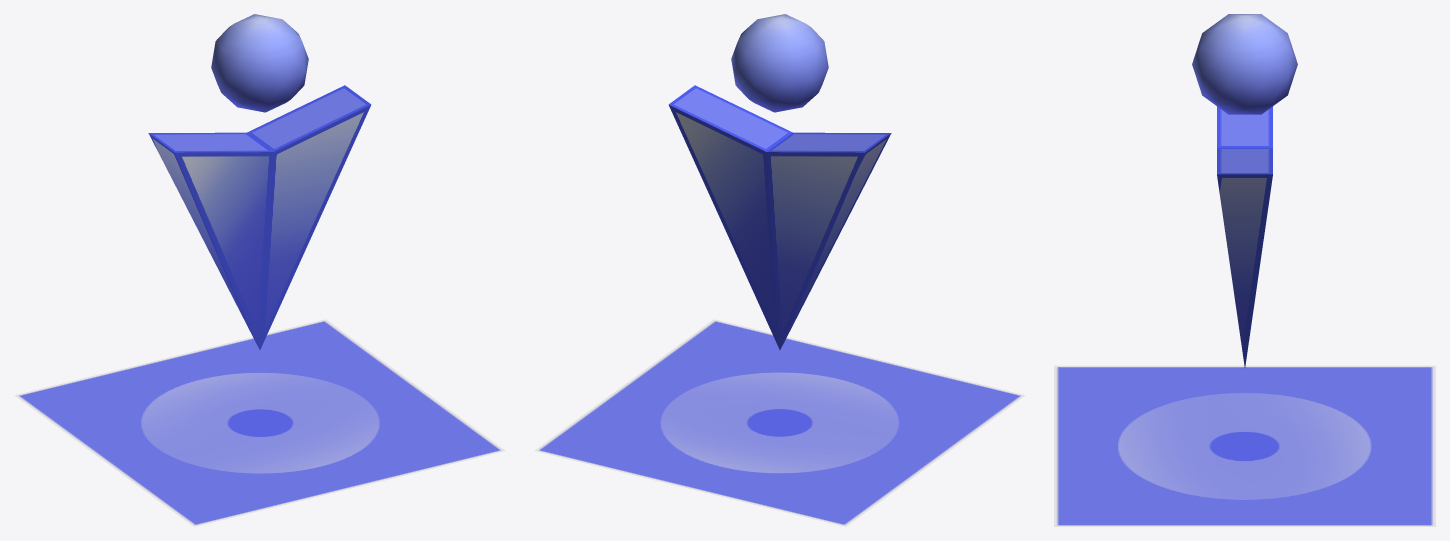
File: HumanSymbol_Ani.gltf
3 views of the same model, side by side, from view 1: azimuth 30°, elevation 25°; view 2: azimuth 150°, elevation 25°; view 3: azimuth 270°, elevation 25° (orthographic). The views are drawn at different scales.
Parts seen in each view (by area): view 1: circle_A, symbol; view 2: circle_A, symbol; view 3: circle_A, symbol.
Part boxes in pixels (box(x1,y1,x2,y2)): circle_A: box(14, 319, 505, 526); symbol: box(148, 14, 371, 349); circle_A: box(534, 319, 1025, 526); symbol: box(668, 14, 891, 349); circle_A: box(1054, 365, 1435, 526); symbol: box(1192, 14, 1297, 367).
Bounding box in the file's own units: 12.93 × 16.06 × 12.93.
2 materials, 2 textured.
